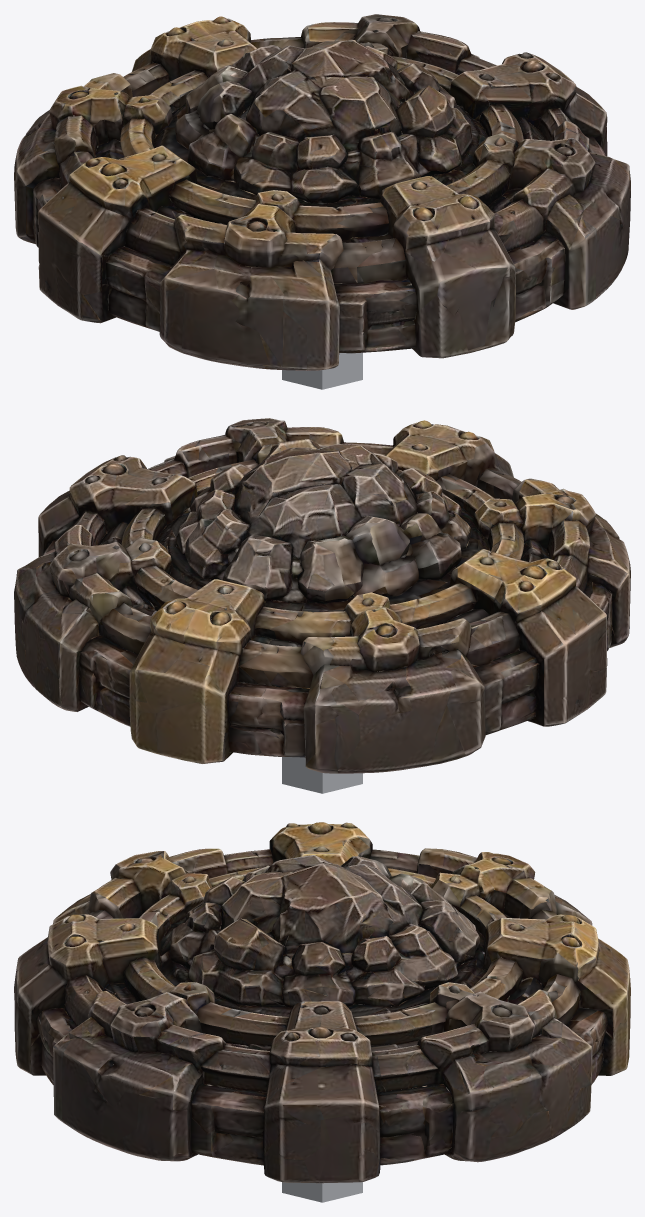
Rendered from burr.glb.
3 views of the same model, one above another, from view 1: azimuth 30°, elevation 25°; view 2: azimuth 150°, elevation 25°; view 3: azimuth 270°, elevation 25° (orthographic).
Visible parts, largest first — view 1: mesh_node; view 2: mesh_node; view 3: mesh_node.
Part boxes in pixels (x1,y1,x2,y2): mesh_node: [14, 14, 630, 389]; mesh_node: [14, 418, 630, 793]; mesh_node: [14, 822, 630, 1202].
Bounding box in the file's own units: 19.83 × 8.93 × 19.81.
2 materials, 1 textured.
